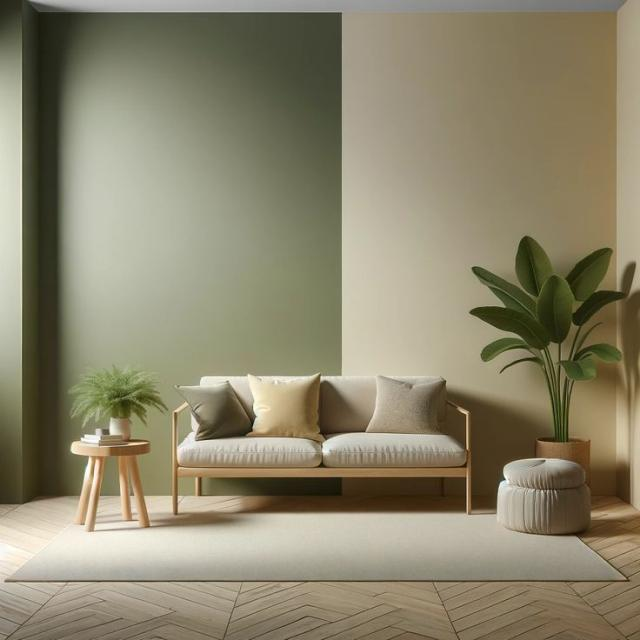obstacle: (171, 373, 472, 515), (70, 438, 150, 532)
